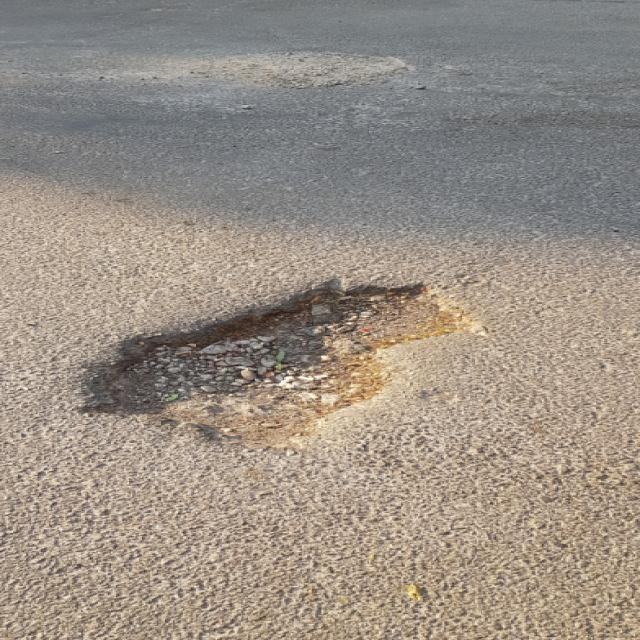pothole: (75, 274, 480, 450)
